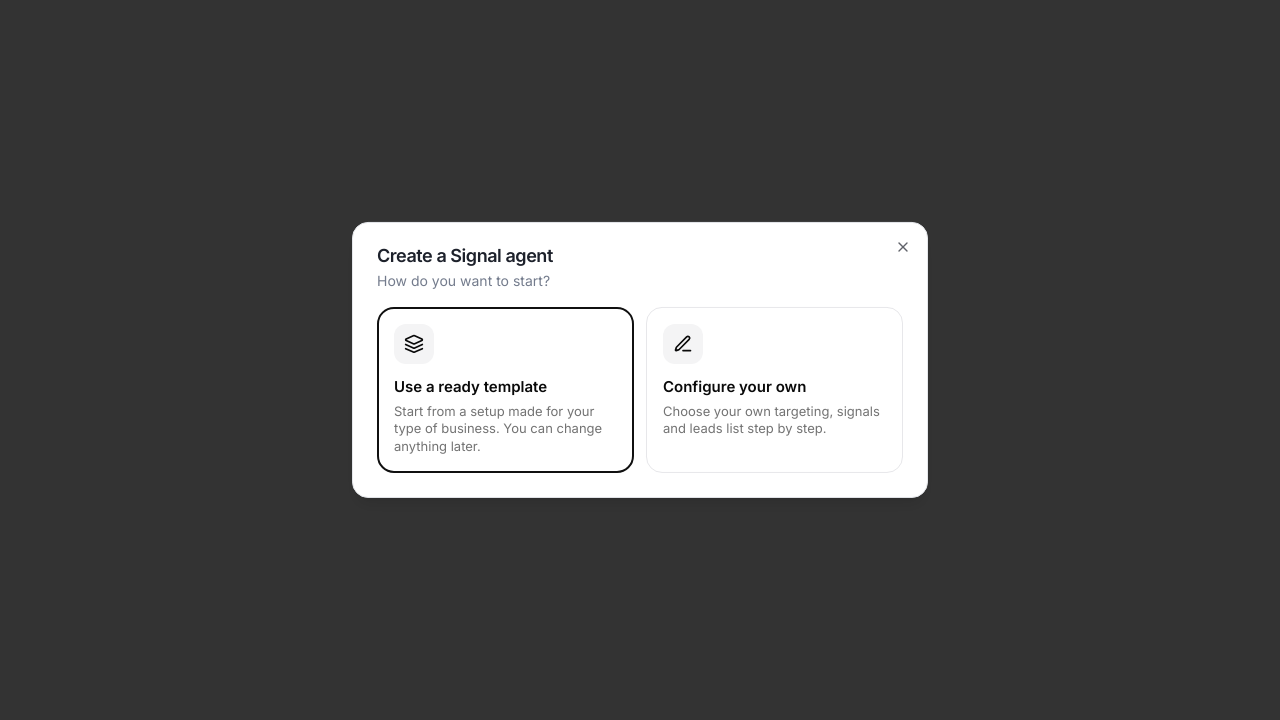
Test: CreateAgentChooser › lets people leave the marketplace to build a custom agent
The image size is (1280, 720).
Later steps or results of the test are not shown.
Click the button that starts with "Use a ready template" at (506, 390), box x1=377 y1=307 x2=634 y2=473
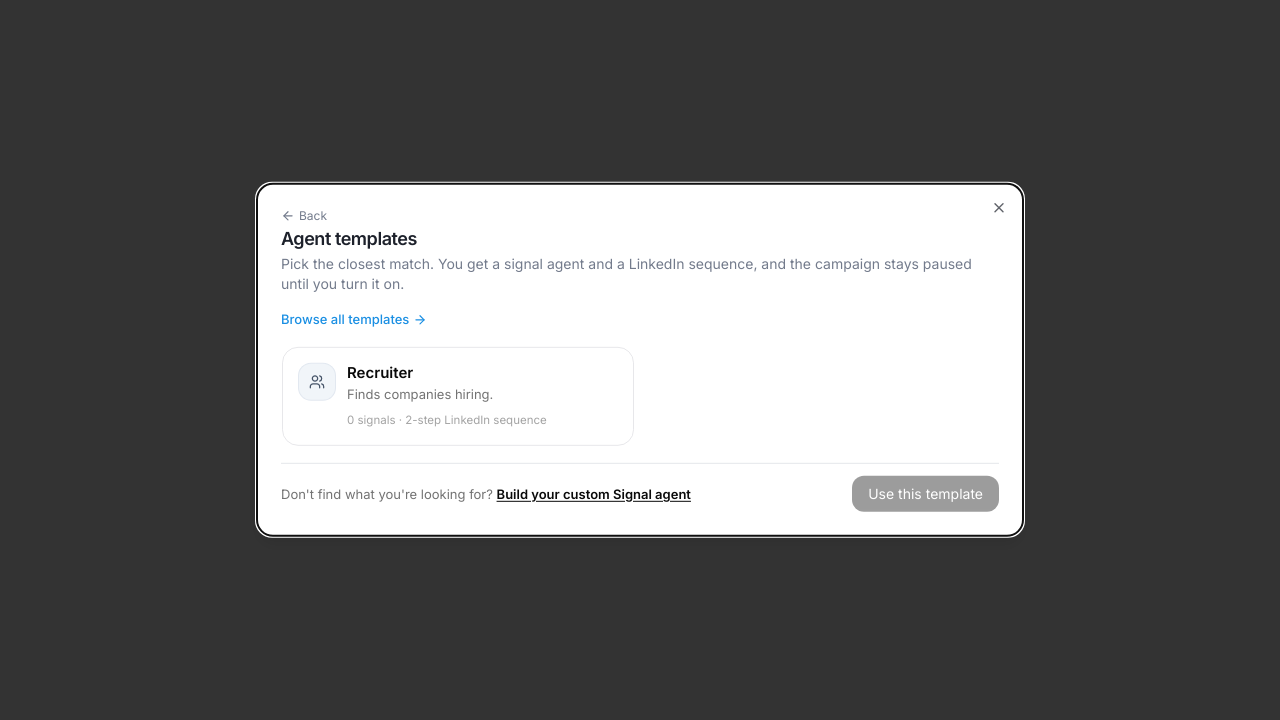
Now the text "Don't find what you're looking for?" is shown, box x1=281 y1=485 x2=493 y2=501
